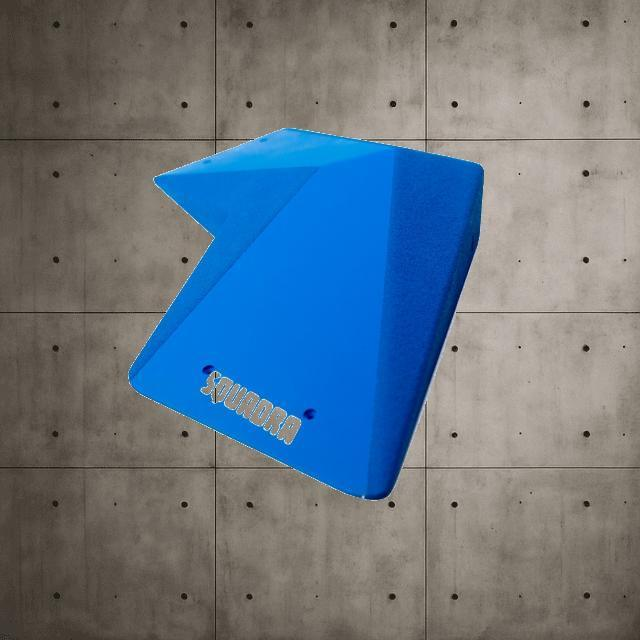Volume: (128, 127, 486, 500)
